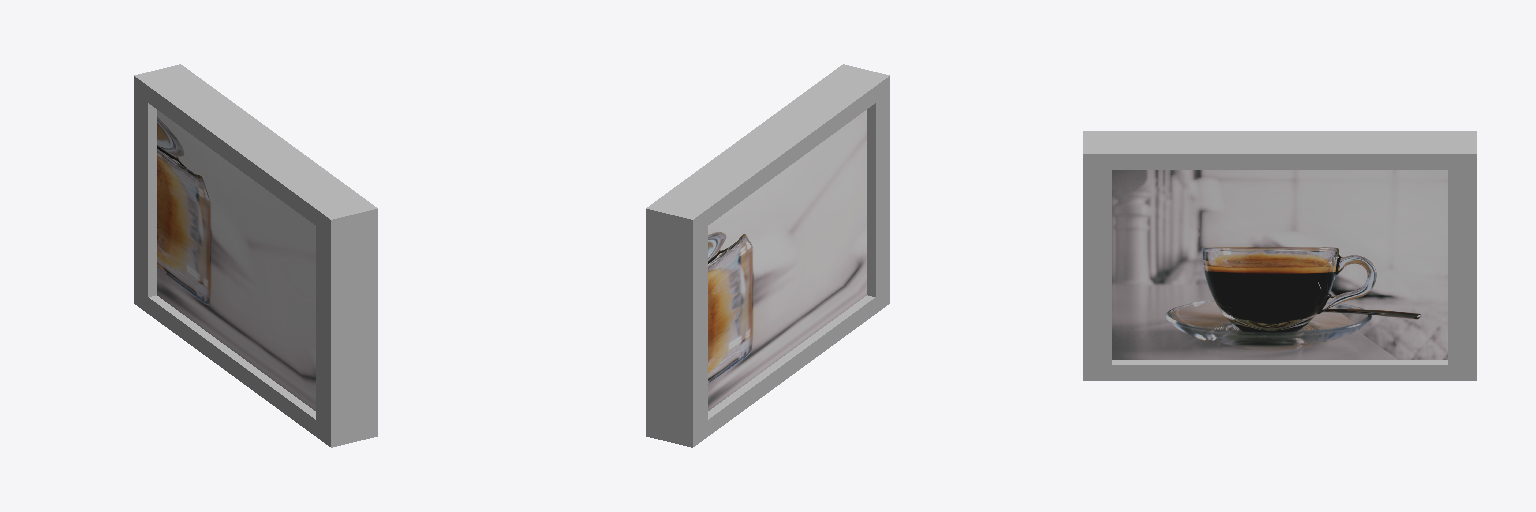
The picture shows the model from 3 angles: view 1: azimuth 30°, elevation 25°; view 2: azimuth 150°, elevation 25°; view 3: azimuth 270°, elevation 25°; orthographic projection.
Parts seen in each view (by area): view 1: Cube.003_Cube.005, Cube.001; view 2: Cube.003_Cube.005, Cube.001; view 3: Cube.001, Cube.003_Cube.005.
Boxes of the visible parts, <box> form: Cube.003_Cube.005: <box>134,64,377,447</box>; Cube.001: <box>157,110,315,410</box>; Cube.003_Cube.005: <box>646,64,889,447</box>; Cube.001: <box>708,110,866,410</box>; Cube.001: <box>1112,170,1447,359</box>; Cube.003_Cube.005: <box>1083,131,1476,380</box>.
Size of the model in its own units: 0.4314 by 2 by 3.13.
Materials: 2 (1 with a texture image).